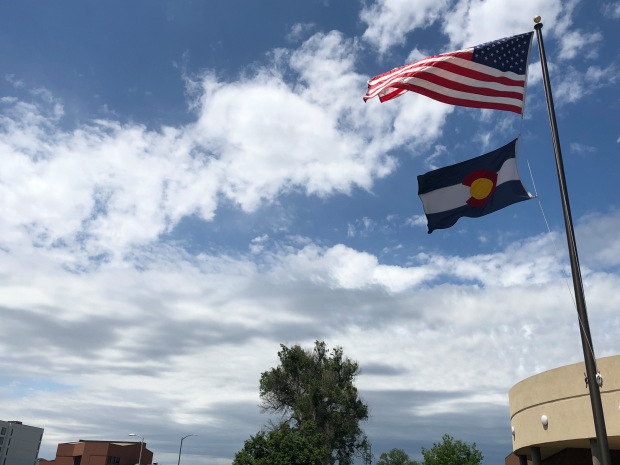America flag: (360, 29, 535, 114)
